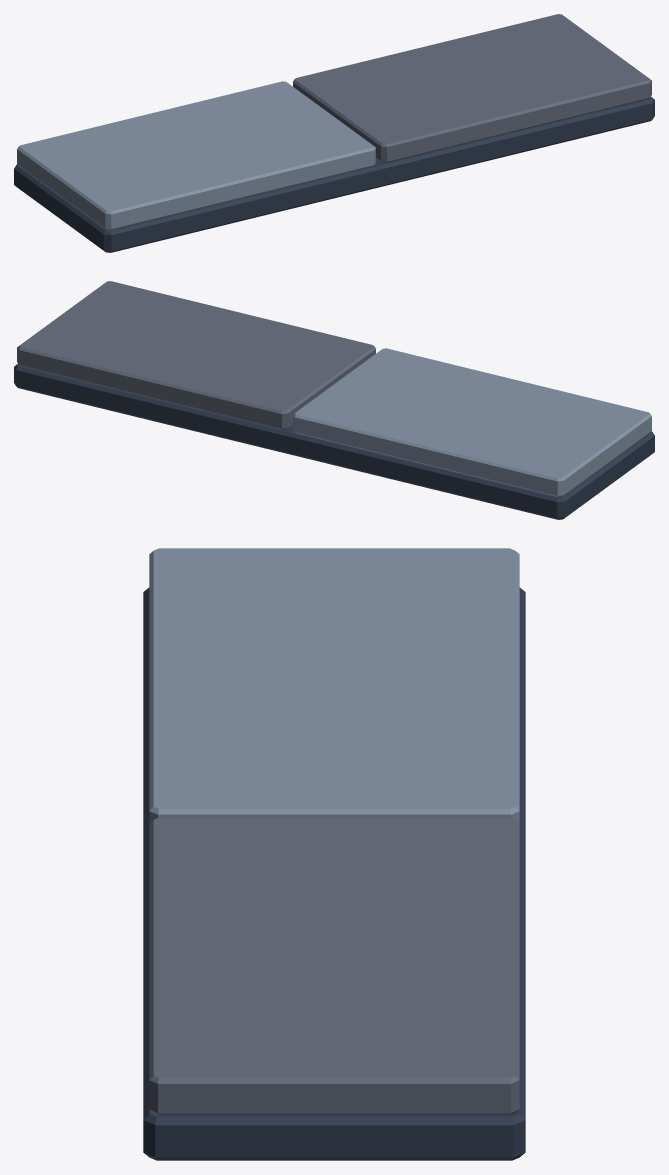
File: floor-threshold.glb
3 views of the same model, one above another, from view 1: azimuth 30°, elevation 25°; view 2: azimuth 150°, elevation 25°; view 3: azimuth 270°, elevation 25° (orthographic). The views are drawn at different scales.
Visible parts, largest first — view 1: floor-threshold__body; view 2: floor-threshold__body; view 3: floor-threshold__body.
Boxes of the visible parts, x1,y1,x2,y2 form: floor-threshold__body: (14, 14, 654, 252); floor-threshold__body: (14, 281, 654, 519); floor-threshold__body: (143, 548, 525, 1160).
Size of the model in its own units: 2 by 0.14 by 0.6.
